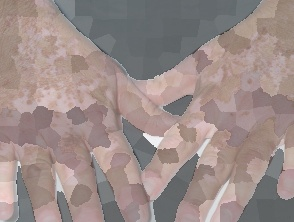vitiligo: (0, 0, 181, 222)
